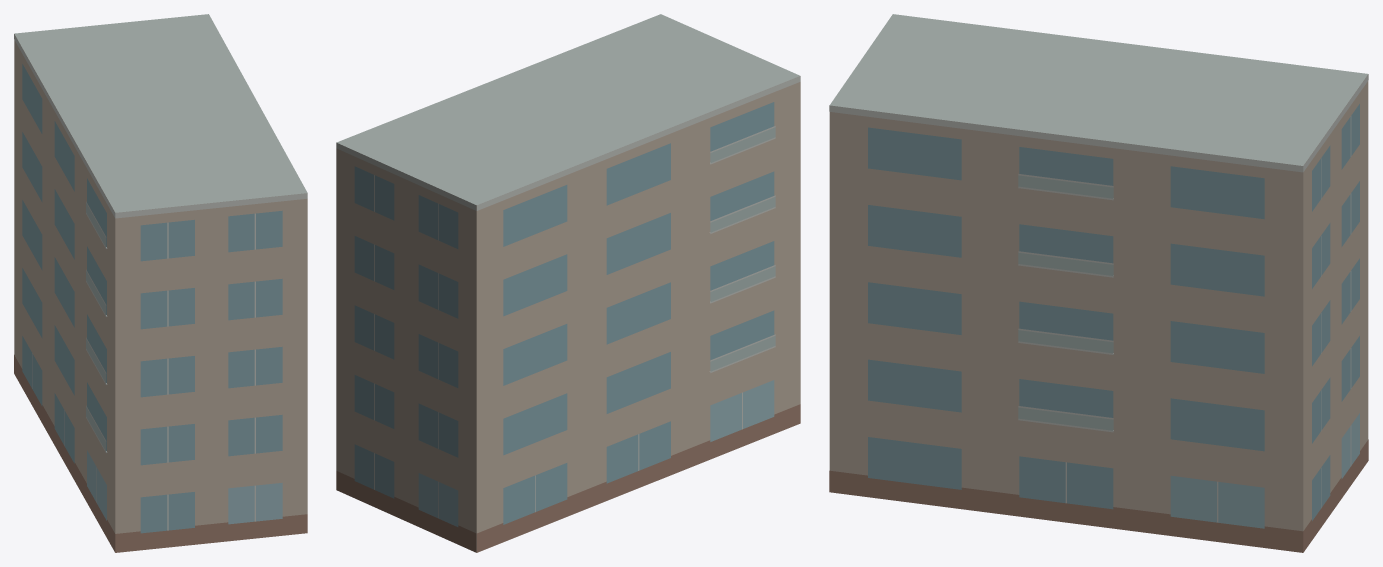
File: survey-upis-32981957.glb
3 views of the same model, side by side, from view 1: azimuth 30°, elevation 25°; view 2: azimuth 150°, elevation 25°; view 3: azimuth 270°, elevation 25° (orthographic). The views are drawn at different scales.
Parts seen in each view (by area): view 1: survey-upis-32981957.tmp; view 2: survey-upis-32981957.tmp; view 3: survey-upis-32981957.tmp.
Part boxes in pixels (<box>): survey-upis-32981957.tmp: <box>14,14,307,552</box>; survey-upis-32981957.tmp: <box>336,14,800,552</box>; survey-upis-32981957.tmp: <box>829,14,1368,552</box>.
Size of the model in its own units: 12.44 by 14.75 by 18.64.
